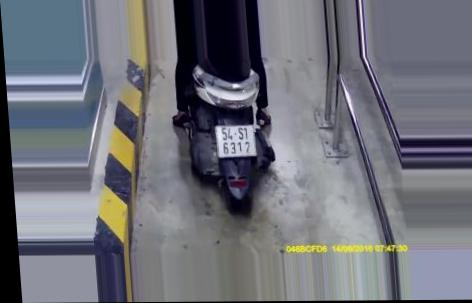License_Plate: (210, 121, 260, 160)
